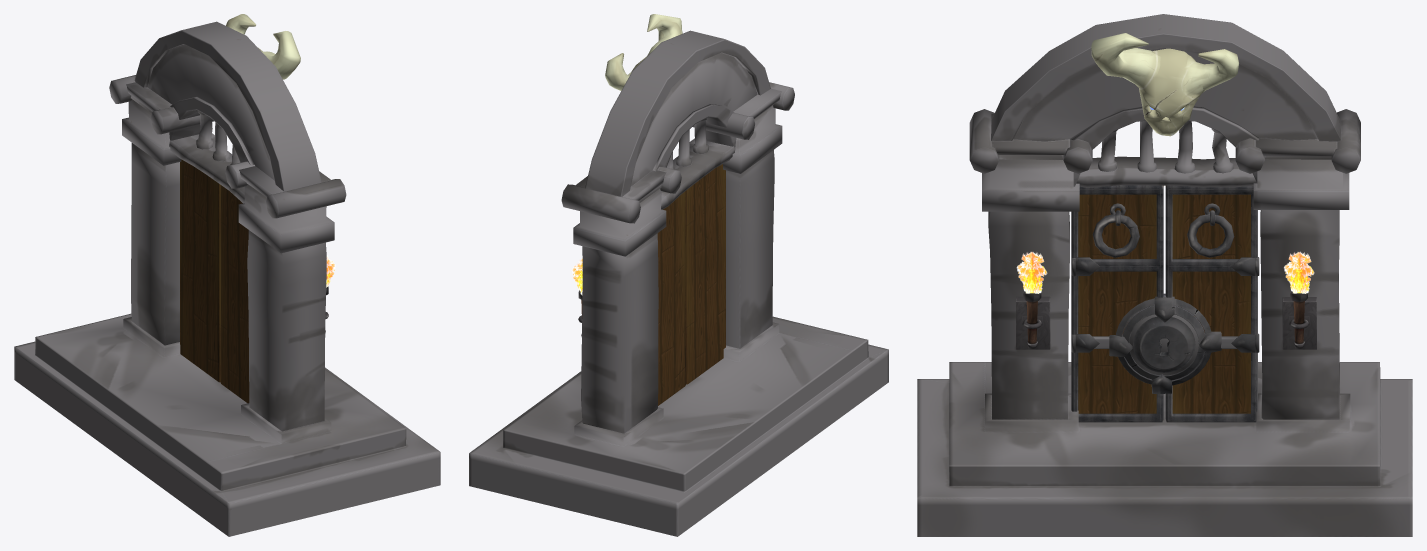
The model's file is the_dungeon_door.glb.
3 renders of one model, left to right at view 1: azimuth 30°, elevation 25°; view 2: azimuth 150°, elevation 25°; view 3: azimuth 270°, elevation 25°, orthographic. The views are drawn at different scales.
Visible parts, largest first — view 1: low arch_11, rings.002_8, low skull_12; view 2: low arch_11, rings.002_8, low skull_12; view 3: low arch_11, rings.002_8, low skull_12, torch.004_9, torch.001_10, C__fakepath_png-clipart-flame-fire-flame-fire.006_2, C__fakepath_png-clipart-flame-fire-flame-fire.001_3.
Part boxes in pixels (box(x1,y1,x2,y2)): low arch_11: box(14, 21, 440, 536); rings.002_8: box(180, 159, 249, 403); low skull_12: box(226, 14, 300, 79); low arch_11: box(469, 30, 888, 536); rings.002_8: box(657, 164, 725, 405); low skull_12: box(605, 14, 682, 90); low arch_11: box(917, 14, 1412, 536); rings.002_8: box(1071, 185, 1259, 422); low skull_12: box(1091, 33, 1238, 136); torch.004_9: box(1016, 291, 1050, 349); torch.001_10: box(1282, 291, 1316, 349); C__fakepath_png-clipart-flame-fire-flame-fire.006_2: box(1016, 252, 1047, 293); C__fakepath_png-clipart-flame-fire-flame-fire.001_3: box(1284, 251, 1314, 293).
Size of the model in its own units: 3.46 by 6.31 by 6.07.
Materials: 6 (5 with a texture image).
